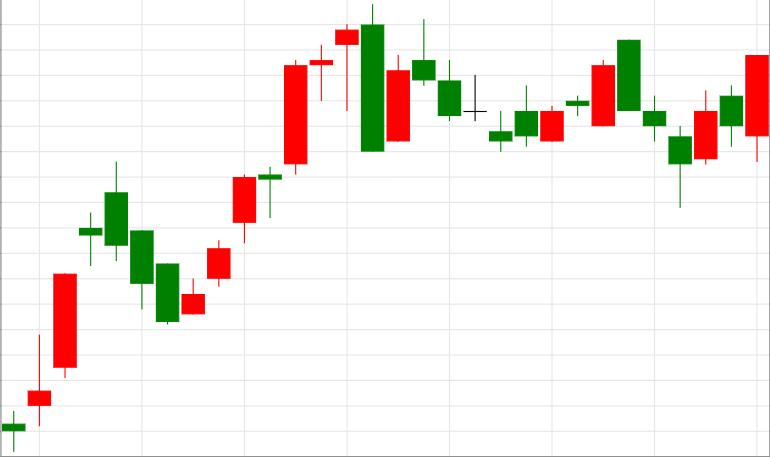bearish_engulfing_fall: (181, 4, 384, 315)
three_white_soldiers_rise: (79, 161, 256, 325)
